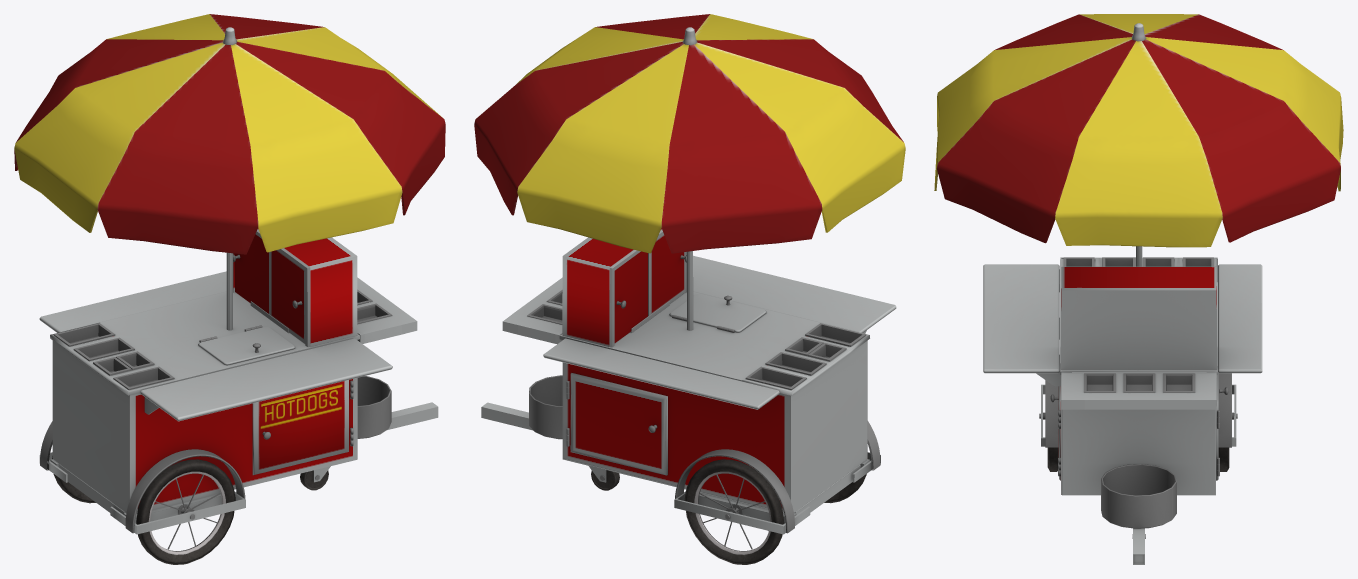
Rendered from HotdogStand.fbx.
3 renders of one model, left to right at view 1: azimuth 30°, elevation 25°; view 2: azimuth 150°, elevation 25°; view 3: azimuth 270°, elevation 25°, orthographic.
Parts seen in each view (by area): view 1: HotdogStand; view 2: HotdogStand; view 3: HotdogStand.
Boxes of the visible parts, <box> form: HotdogStand: <box>14,14,445,564</box>; HotdogStand: <box>474,14,905,564</box>; HotdogStand: <box>934,14,1343,564</box>.
Size of the model in its own units: 199 by 240 by 183.
1 material, 1 textured.
